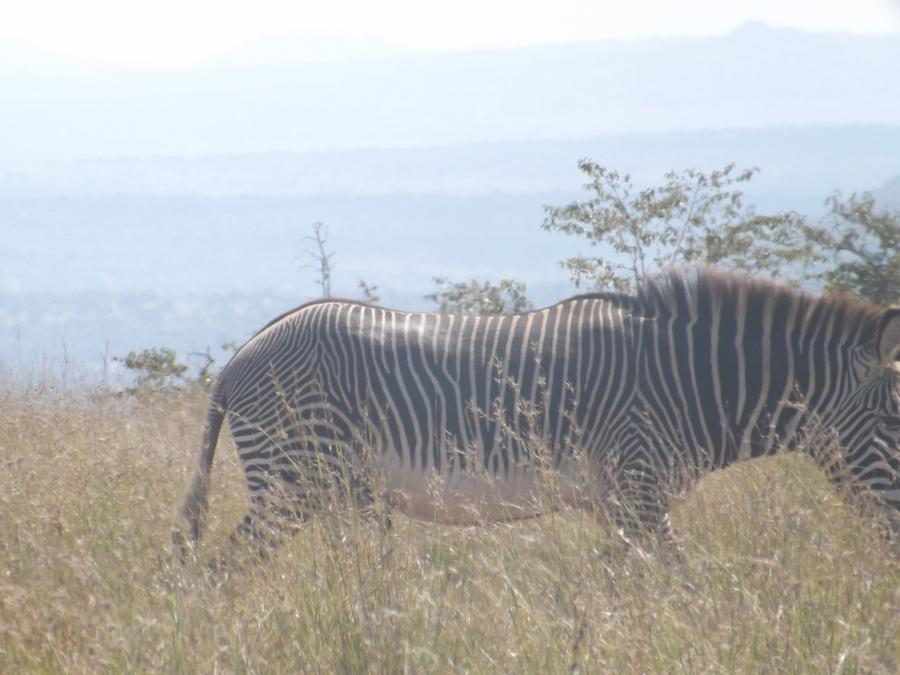zebra_grevys: (201, 287, 672, 510)
